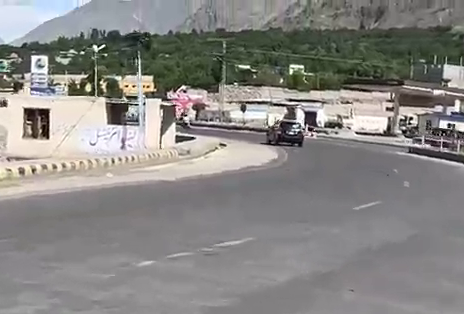right: (235, 116, 464, 218)
